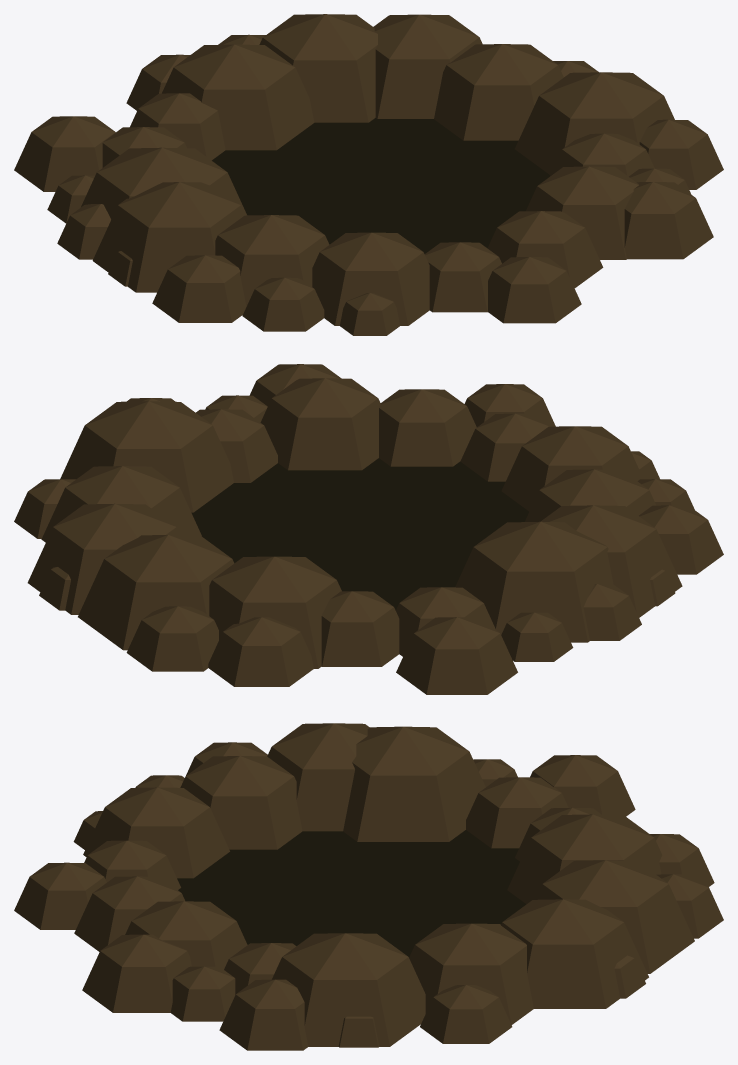
Rendered from Tunnel_asset.glb.
3 renders of one model, top to bottom at view 1: azimuth 30°, elevation 25°; view 2: azimuth 150°, elevation 25°; view 3: azimuth 270°, elevation 25°, orthographic. The views are drawn at different scales.
Parts seen in each view (by area): view 1: Tunnel_asset, Hole; view 2: Tunnel_asset, Hole; view 3: Tunnel_asset, Hole.
Part boxes in pixels (x1,y1,x2,y2): Tunnel_asset: (14, 14, 723, 335); Hole: (212, 118, 550, 253); Tunnel_asset: (14, 364, 723, 694); Hole: (191, 458, 528, 610); Tunnel_asset: (14, 723, 723, 1050); Hole: (177, 830, 526, 957).
Size of the model in its own units: 1.87 by 0.2599 by 1.97.
